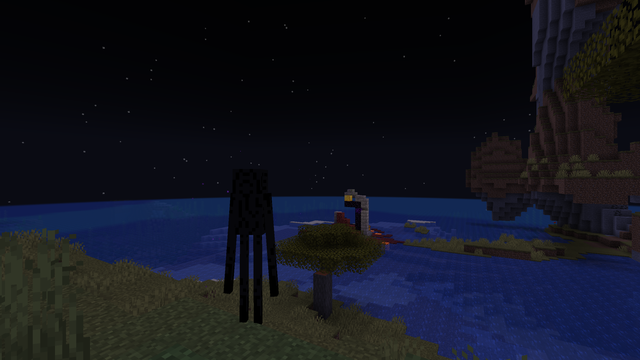endermens: (226, 163, 273, 333)
